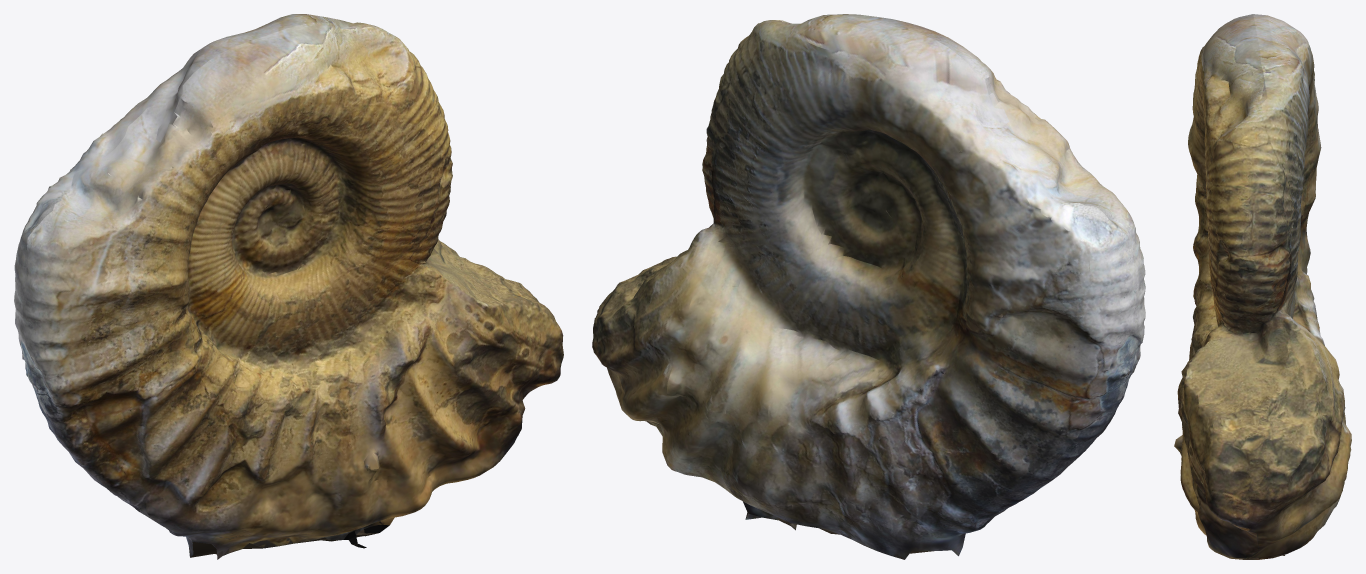
File: amminite_nuova.glb
The picture shows the model from 3 angles, left to right: view 1: azimuth 30°, elevation 25°; view 2: azimuth 150°, elevation 25°; view 3: azimuth 270°, elevation 25°; orthographic projection. The views are drawn at different scales.
Parts seen in each view (by area): view 1: Object_2; view 2: Object_2; view 3: Object_2.
Part boxes in pixels (left/top/right/bottom): Object_2: left=14, top=14, right=563, bottom=559; Object_2: left=592, top=14, right=1145, bottom=559; Object_2: left=1174, top=14, right=1351, bottom=559.
Size of the model in its own units: 7.09 by 6.62 by 2.24.
Materials: 1 (1 with a texture image).
